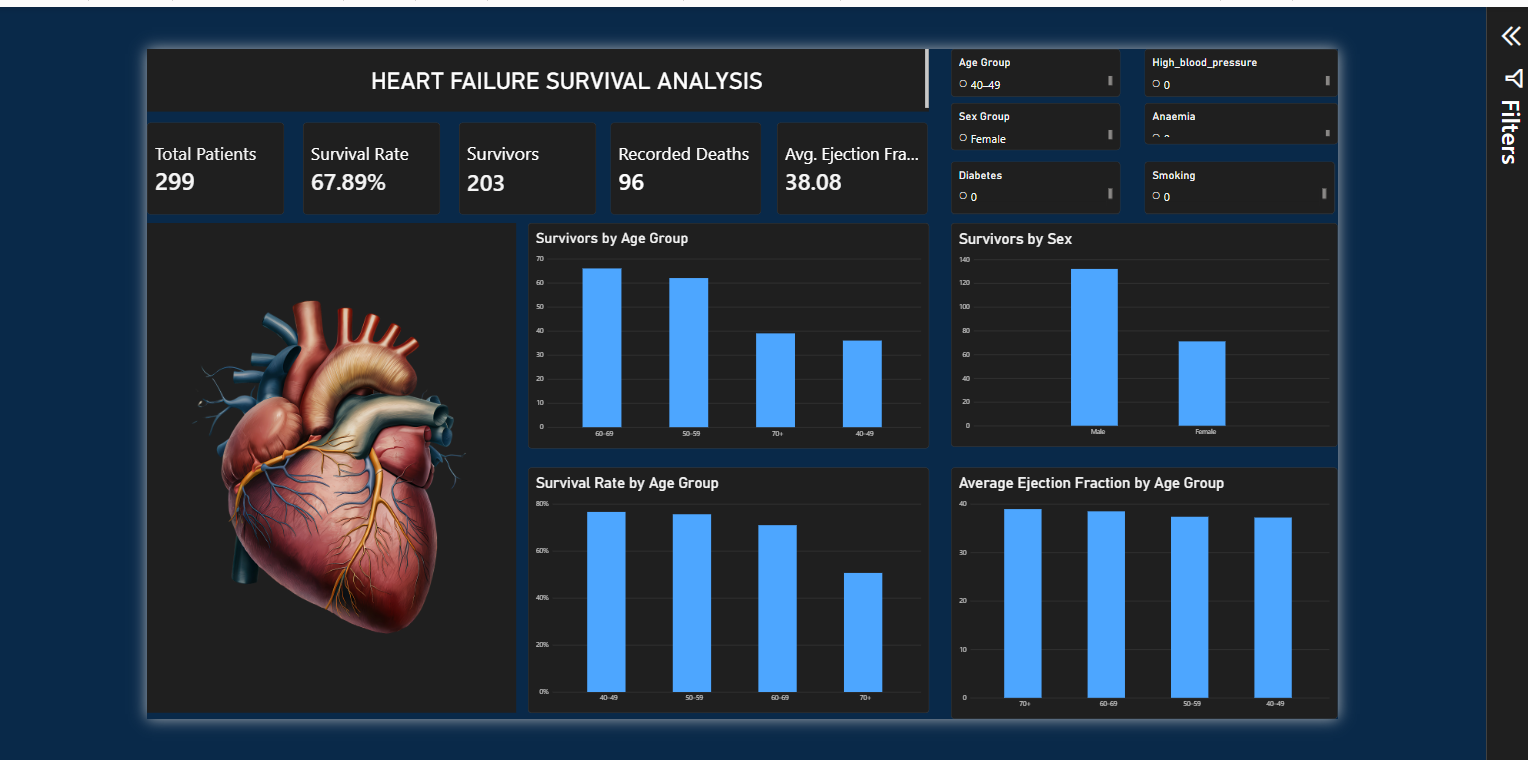

What the dashboard file says about the page in this screenshot:
{"tool":"powerbi","page":{"name":"Page 1","canvas":[2560,1440],"ordinal":0},"visuals":[{"type":"textbox","box":[0,0,1681.2,134.4],"z":0},{"type":"cardVisual","fields":{"Data":["Sheet1.Total Patients"]},"box":[0,157.5,295.9,198],"z":2000},{"type":"cardVisual","fields":{"Data":["Sheet1.Survival Rate"]},"box":[336.4,157.5,295.9,198],"z":3000},{"type":"cardVisual","fields":{"Data":["Sheet1.Total Survivors"]},"box":[670.4,157.5,295.9,198],"z":4000},{"type":"cardVisual","fields":{"Data":["Sheet1.Total Deaths"]},"box":[997.3,157.5,324.5,198],"z":5000},{"type":"cardVisual","fields":{"Data":["Sheet1.Average Ejection Fraction"]},"box":[1355.2,157.5,324.5,198],"z":6000},{"type":"image","box":[0,375,793.8,1053.1],"z":7000},{"type":"clusteredColumnChart","title":"Survivors by Age Group ","fields":{"Category":["Sheet1.Age Group"],"Y":["Sheet1.Total Survivors"]},"box":[818.8,375,862.5,484.4],"z":8000},{"type":"clusteredColumnChart","title":"Survival Rate by Age Group ","fields":{"Category":["Sheet1.Age Group"],"Y":["Sheet1.Survival Rate"]},"box":[818.8,900,862.5,528.1],"z":9000},{"type":"clusteredColumnChart","title":"Survivors by Sex ","fields":{"Category":["Sheet1.Sex Group"],"Y":["Sheet1.Total Survivors"]},"box":[1728.1,375,831.2,481.2],"z":10000},{"type":"clusteredColumnChart","title":"Average Ejection Fraction by Age Group","fields":{"Category":["Sheet1.Age Group"],"Y":["Sheet1.Average Ejection Fraction"]},"box":[1728.1,900,831.2,540.6],"z":10001},{"type":"listSlicer","fields":{"Values":["Sheet1.Age Group"]},"box":[1728.6,0,364.3,102.9],"z":10002},{"type":"listSlicer","fields":{"Values":["Sheet1.Sex Group"]},"box":[1728.6,117.1,364.3,101.4],"z":10003},{"type":"listSlicer","fields":{"Values":["Sheet1.Diabetes"]},"box":[1728.6,242.9,364.3,112.9],"z":10004},{"type":"listSlicer","fields":{"Values":["Sheet1.Smoking"]},"box":[2144.3,242.9,408.6,112.9],"z":10005},{"type":"listSlicer","fields":{"Values":["Sheet1.High_blood_pressure"]},"box":[2144.3,0,415.7,102.9],"z":10006},{"type":"listSlicer","fields":{"Values":["Sheet1.Anaemia"]},"box":[2144.3,117.1,415.7,88.6],"z":10007}]}

Visuals, with their boxes on the page's 2560x1440 design canvas (x1, y1, x2, y2). These are canvas units, not pixel positions in the 1528x760 screenshot, which may show the page scaled, cropped or inside an application window:
textbox: 0:0:1681:134
cardVisual - Sheet1.Total Patients: 0:158:296:356
cardVisual - Sheet1.Survival Rate: 336:158:632:356
cardVisual - Sheet1.Total Survivors: 670:158:966:356
cardVisual - Sheet1.Total Deaths: 997:158:1322:356
cardVisual - Sheet1.Average Ejection Fraction: 1355:158:1680:356
image: 0:375:794:1428
"Survivors by Age Group " clusteredColumnChart: 819:375:1681:859
"Survival Rate by Age Group " clusteredColumnChart: 819:900:1681:1428
"Survivors by Sex " clusteredColumnChart: 1728:375:2559:856
"Average Ejection Fraction by Age Group" clusteredColumnChart: 1728:900:2559:1441
listSlicer - Sheet1.Age Group: 1729:0:2093:103
listSlicer - Sheet1.Sex Group: 1729:117:2093:218
listSlicer - Sheet1.Diabetes: 1729:243:2093:356
listSlicer - Sheet1.Smoking: 2144:243:2553:356
listSlicer - Sheet1.High_blood_pressure: 2144:0:2560:103
listSlicer - Sheet1.Anaemia: 2144:117:2560:206
